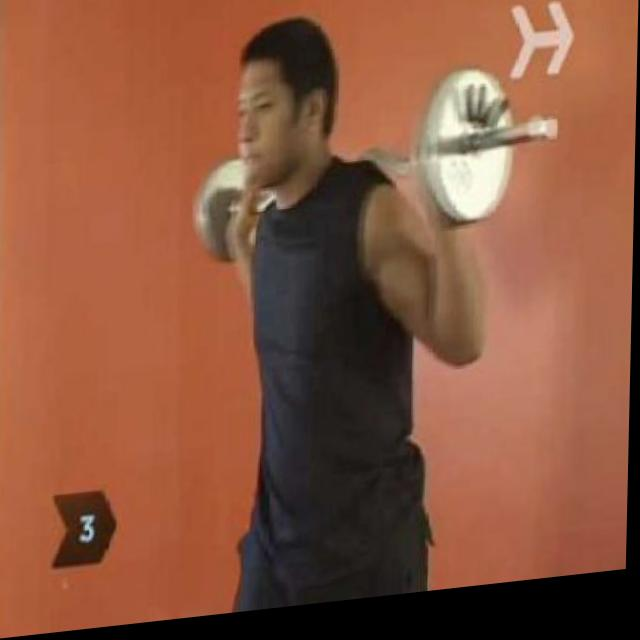barbell: (427, 70, 564, 246)
